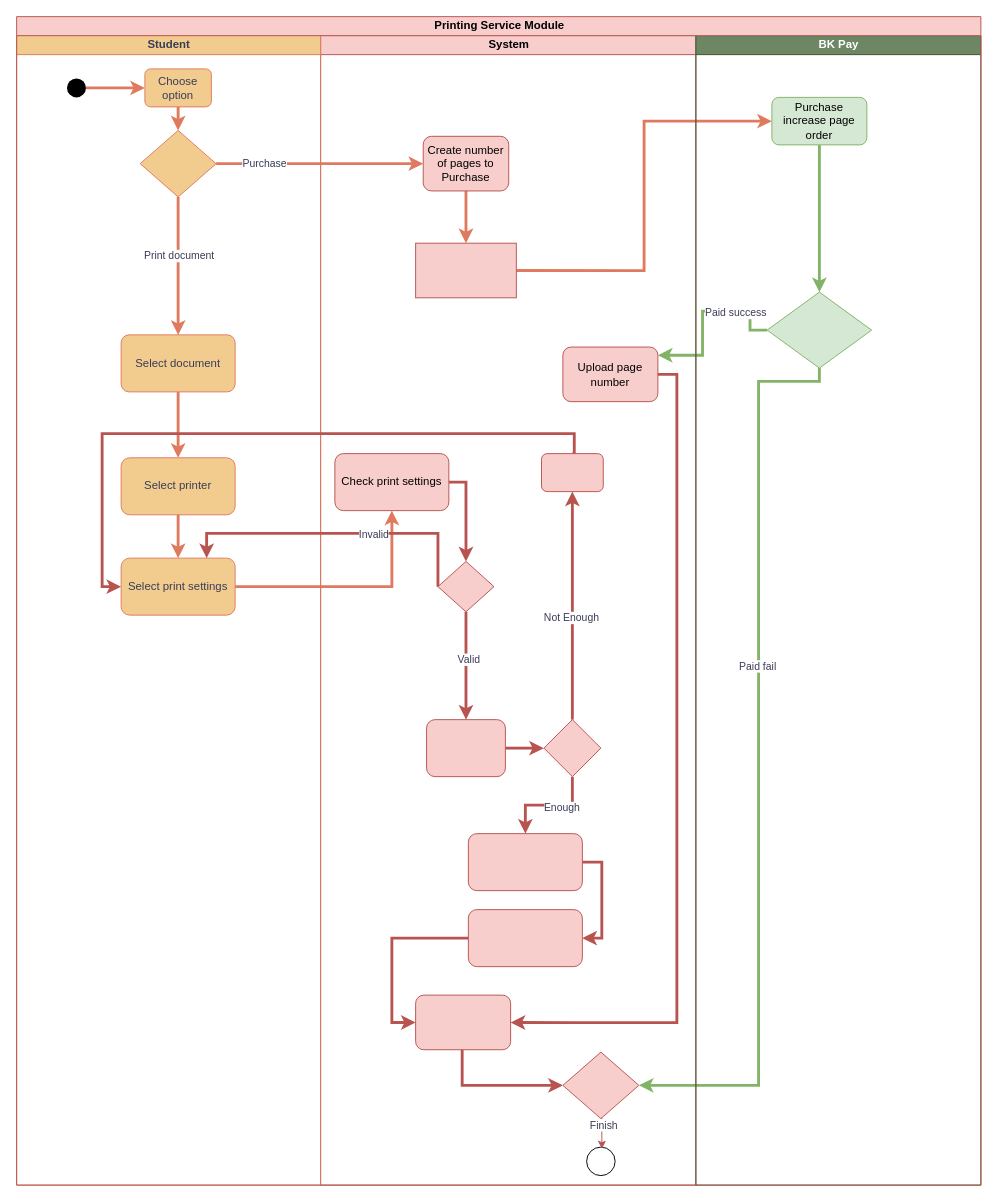
The diagram is 998 pixels wide and 1202 high, and some of its shapes have lost their labels. Here are the shapes that lost their labels. From the top down, the centre of each, then its label:
At (465,270): "Create order".
At (572,472): "Display message".
At (465,748): "Check available page".
At (524,862): "Print Documents".
At (524,938): "Update Remaining Pages".
At (463,1022): "Log Activity".
